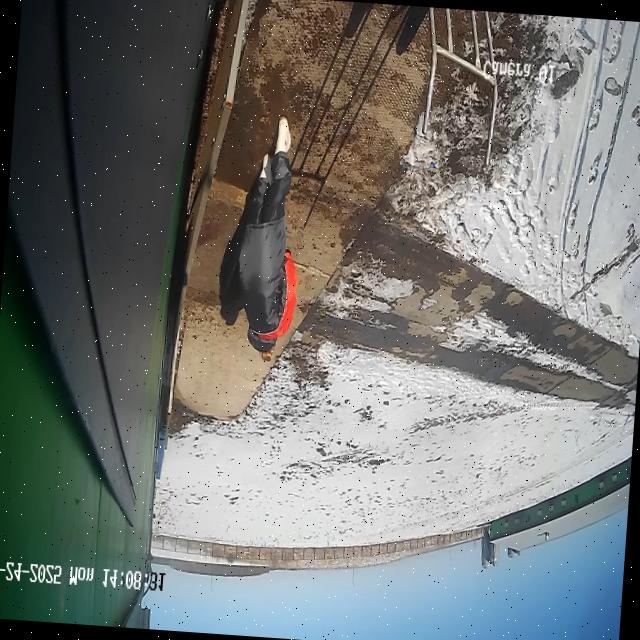Red uniform: (219, 117, 297, 353)
